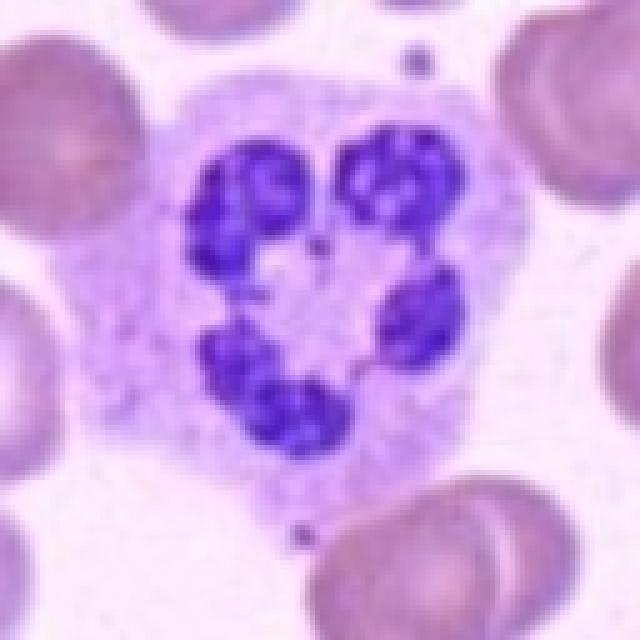neutro: (69, 82, 528, 549)
